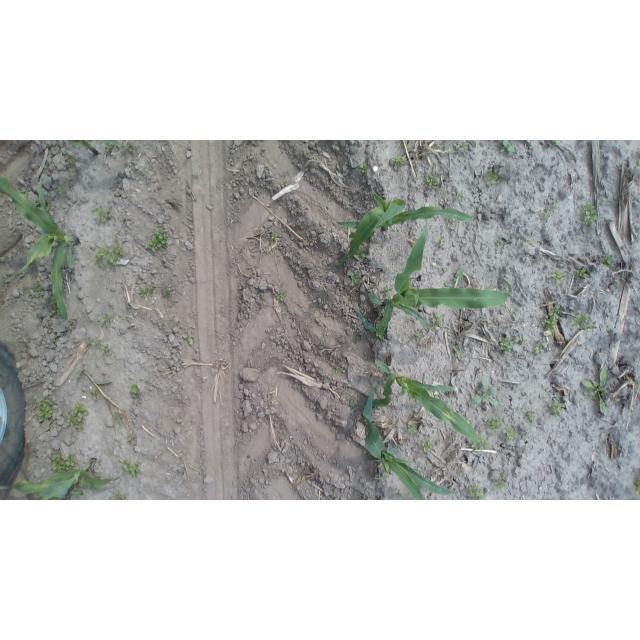Maize: (359, 219, 514, 337), (348, 360, 483, 448), (0, 174, 80, 321), (362, 386, 459, 500), (334, 188, 474, 261), (1, 458, 130, 500)
Weeds: (581, 367, 611, 414), (471, 377, 500, 409), (93, 241, 126, 268), (65, 403, 89, 431), (35, 397, 58, 425), (540, 304, 560, 336), (147, 226, 170, 252), (50, 452, 78, 473), (91, 203, 115, 226), (570, 311, 596, 331), (101, 140, 137, 154), (122, 458, 143, 479), (548, 395, 566, 417), (579, 202, 598, 222), (445, 268, 464, 288), (466, 483, 488, 499), (26, 279, 44, 298), (498, 337, 515, 356), (472, 437, 493, 452), (486, 415, 503, 433), (502, 424, 519, 442), (388, 155, 408, 170), (419, 438, 436, 455), (484, 170, 500, 186), (426, 173, 442, 189), (552, 269, 569, 284), (138, 284, 155, 299), (93, 339, 111, 353), (430, 313, 446, 328), (601, 253, 616, 268), (69, 483, 84, 498), (350, 269, 363, 286), (495, 474, 508, 491), (501, 141, 517, 154), (131, 382, 142, 400), (575, 266, 590, 279), (356, 245, 369, 260), (110, 491, 131, 500), (408, 420, 421, 434), (276, 288, 289, 302), (114, 412, 127, 425), (100, 313, 112, 327), (524, 409, 536, 423), (532, 342, 544, 356), (331, 365, 347, 375), (358, 163, 371, 175), (63, 155, 75, 168), (162, 286, 174, 299), (452, 344, 465, 356), (56, 184, 68, 197), (49, 299, 59, 314), (458, 140, 470, 152), (183, 334, 195, 346), (270, 231, 281, 244), (542, 209, 552, 222), (91, 390, 102, 401), (455, 189, 465, 201), (436, 236, 446, 248), (381, 285, 391, 296), (416, 328, 426, 339), (394, 487, 405, 497), (348, 396, 357, 408), (127, 432, 136, 444), (256, 294, 266, 304), (550, 199, 560, 209), (523, 236, 533, 245), (632, 479, 638, 494), (495, 237, 504, 246), (517, 338, 526, 347), (332, 488, 339, 498), (46, 199, 53, 208), (282, 181, 291, 188), (550, 140, 560, 146)
